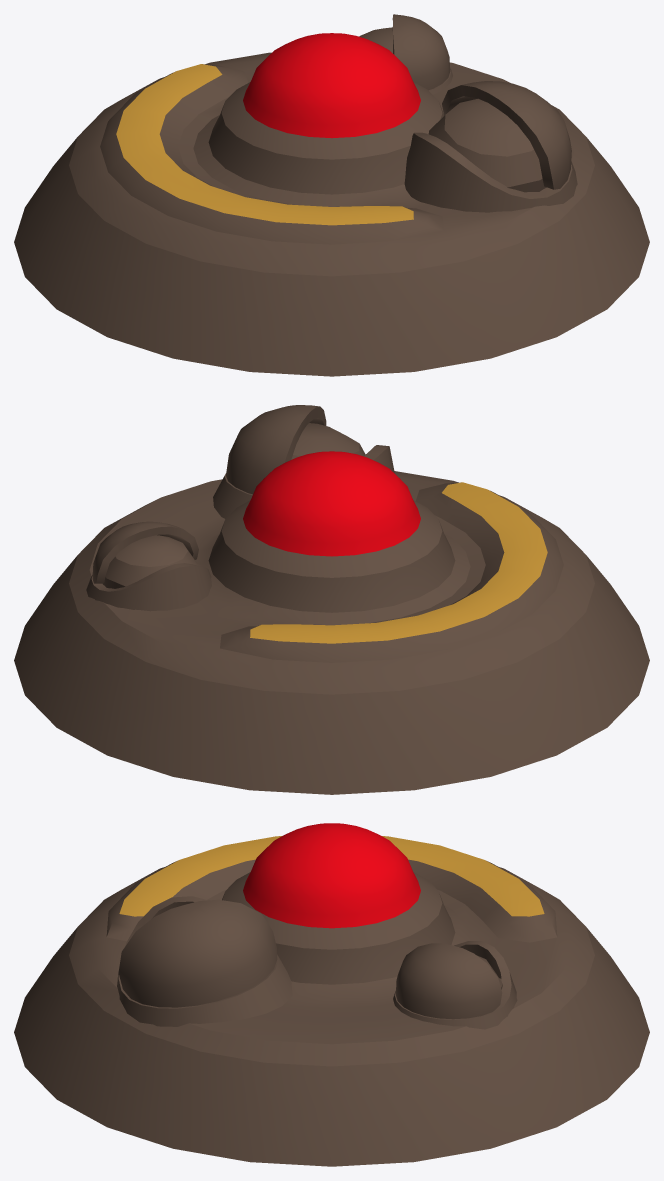
The model's file is bomba_mesh.fbx.
The picture shows the model from 3 angles, top to bottom: view 1: azimuth 30°, elevation 25°; view 2: azimuth 150°, elevation 25°; view 3: azimuth 270°, elevation 25°; orthographic projection.
Visible parts, largest first — view 1: Circle.001; view 2: Circle.001; view 3: Circle.001.
Boxes of the visible parts, x1=… form: Circle.001: x1=14, y1=14, x2=649, y2=376; Circle.001: x1=14, y1=405, x2=649, y2=794; Circle.001: x1=14, y1=823, x2=649, y2=1166.
Bounding box in the file's own units: 486 × 170 × 486.
